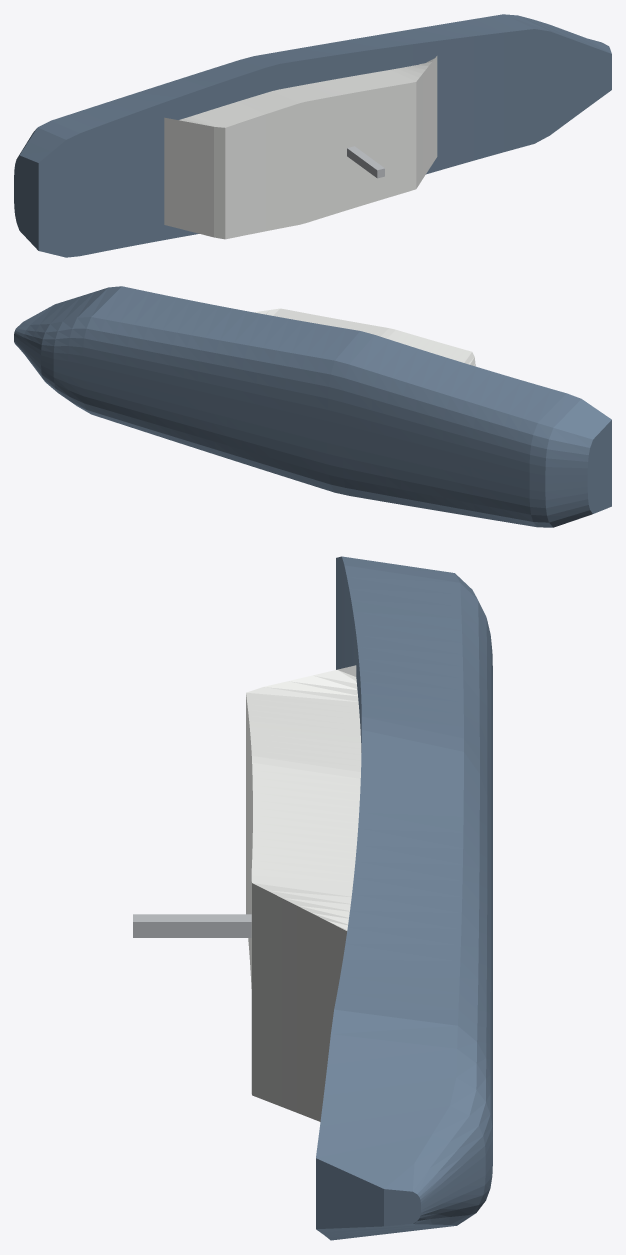
The model's file is loft-power-small-sheered.glb.
3 views of the same model, one above another, from view 1: azimuth 30°, elevation 25°; view 2: azimuth 150°, elevation 25°; view 3: azimuth 270°, elevation 25° (orthographic). The views are drawn at different scales.
Parts seen in each view (by area): view 1: loft-power-small-sheered; view 2: loft-power-small-sheered; view 3: loft-power-small-sheered.
Part boxes in pixels (<box>): loft-power-small-sheered: <box>14,14,611,257</box>; loft-power-small-sheered: <box>14,286,611,527</box>; loft-power-small-sheered: <box>133,556,492,1240</box>.
Size of the model in its own units: 1.8 by 0.4596 by 0.4865.
